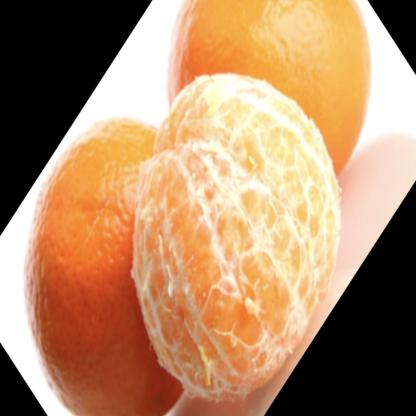fresh: (26, 2, 370, 416)
